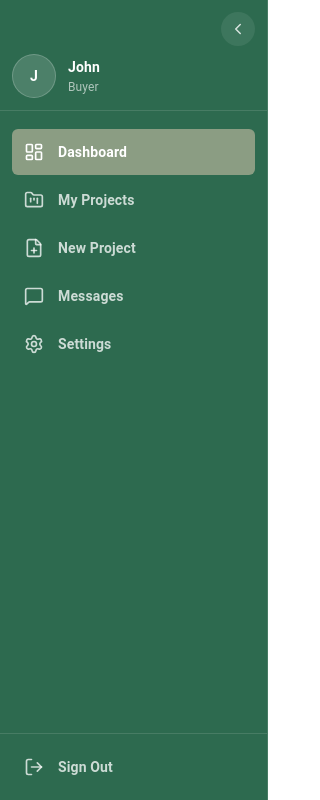
Test: Sidebar › keeps desktop links accessible by label in mini variant
Click the button named "collapse sidebar" at (238, 29), box [221,12,255,46]
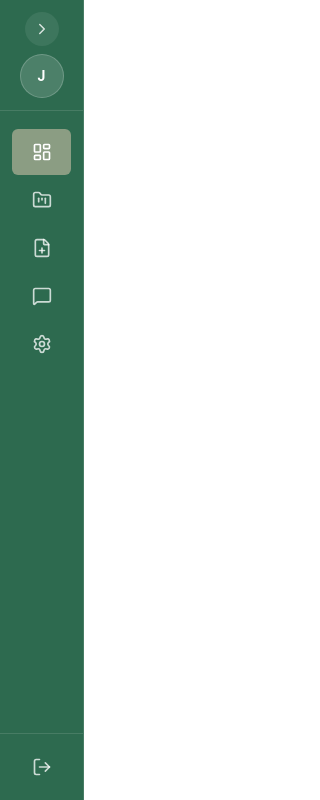
Check: the link named "dashboard" is shown, box [12,129,71,175]
Check: the text "Dashboard" is gone
